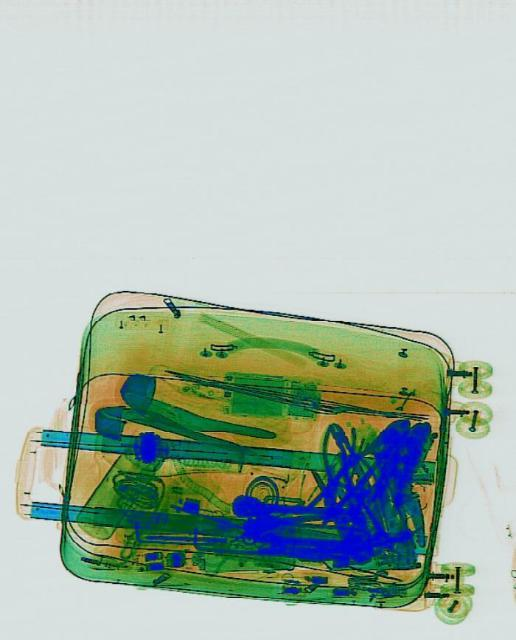Pliers: (302, 408, 417, 528), (320, 414, 382, 504)
